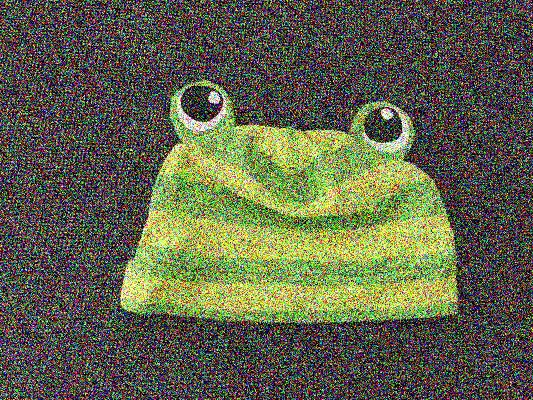Hat: (87, 83, 458, 330)
